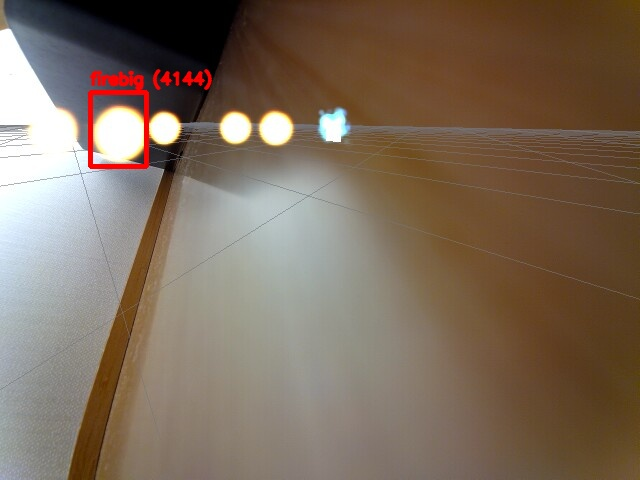firebig: (90, 92, 146, 166)
